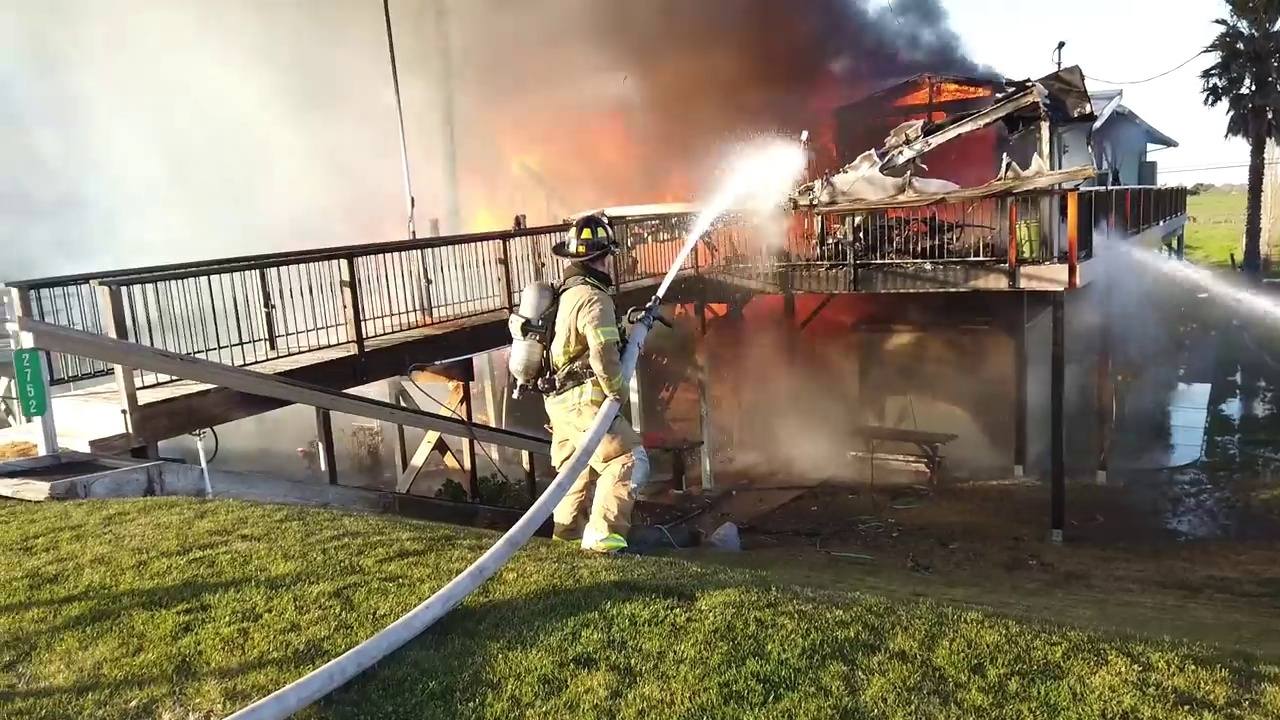fire: (677, 141, 806, 241), (895, 70, 993, 112)
smoke: (8, 10, 675, 212), (705, 312, 1015, 478), (781, 1, 993, 72), (678, 2, 781, 140), (1208, 14, 1279, 155), (791, 87, 890, 150), (212, 422, 317, 479), (333, 412, 399, 491)
